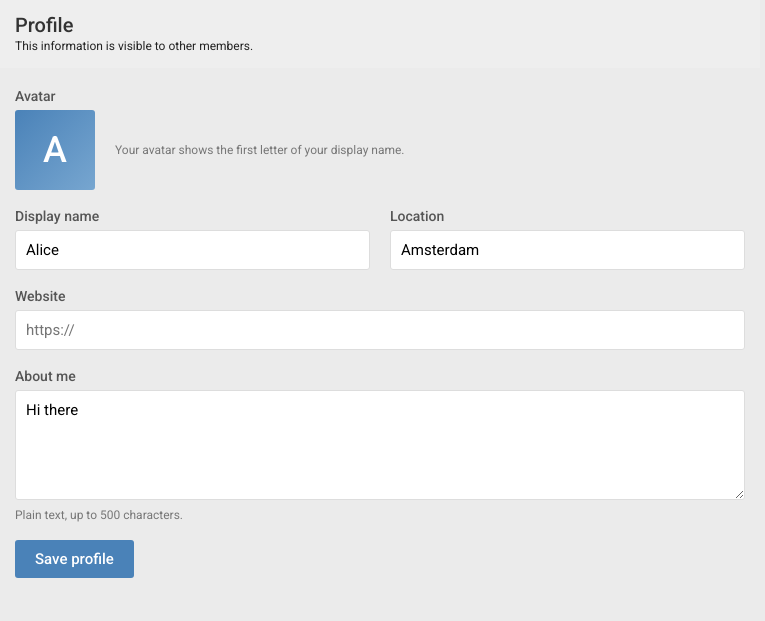
Scenario: profile: refreshes /me after saving
Type "!" into the field labelled "Location" at {"x": 568, "y": 250}, box [390,230,745,270]
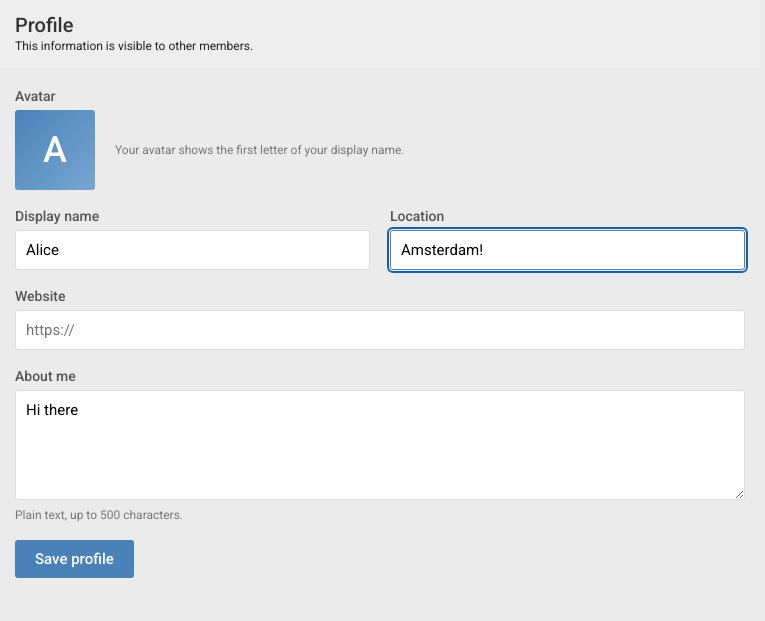
Click the button "Save profile" at {"x": 74, "y": 559}, box [15,540,134,578]
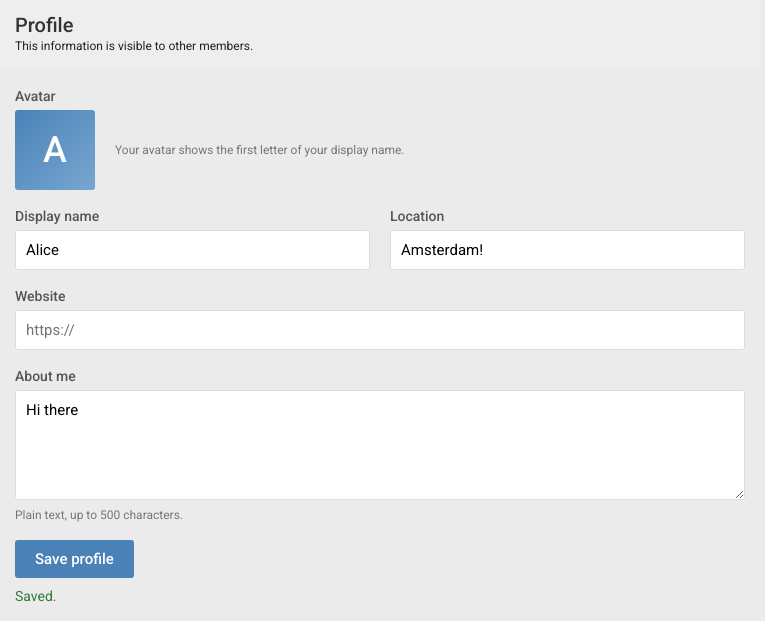
Check: the text "Saved." is shown, box [15,588,56,604]
